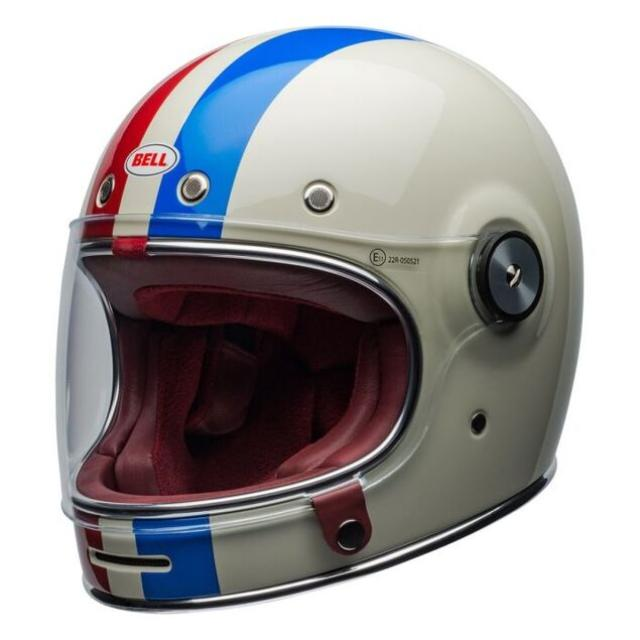Helmet: (51, 23, 586, 612)
